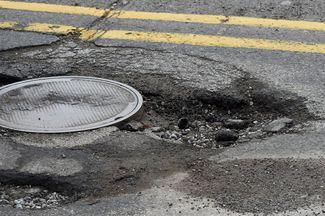Pothole: (131, 56, 289, 157)
